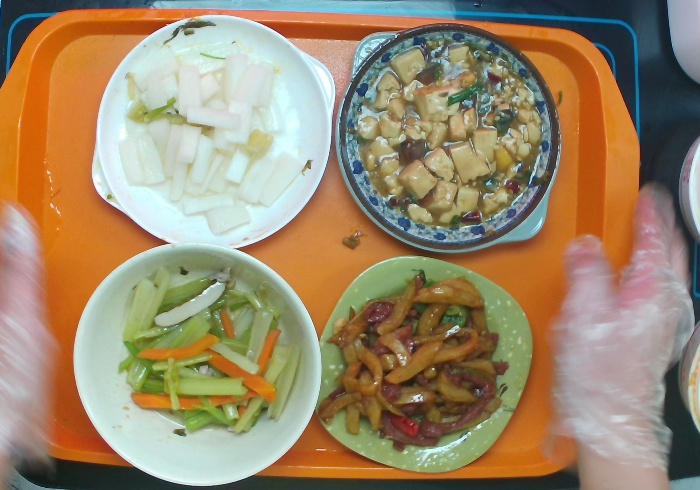NLDX-Bai_Se_Shuang_Er_Die: (88, 12, 336, 248)
NLDX-Bai_Se_Yuan_Wan: (72, 240, 323, 490)
NLDX-Lv_Hua_Fang_Die: (313, 254, 534, 475)
NLDX-Qing_Hua_Shuang_Er_Die: (333, 19, 562, 255)
